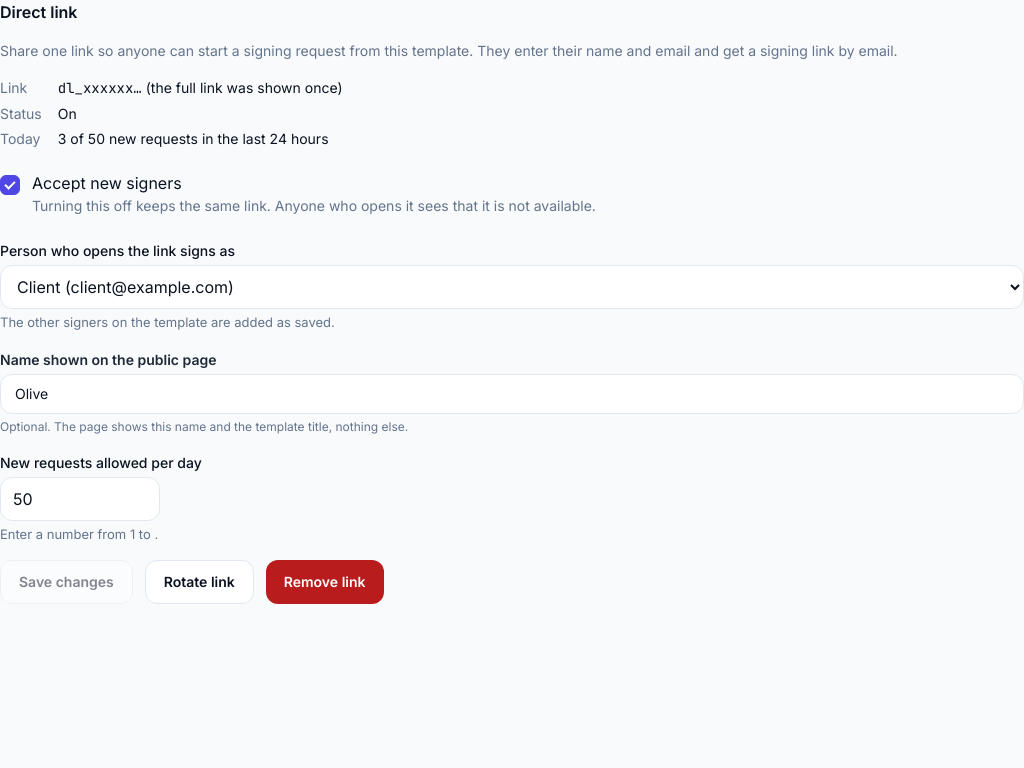
it: DirectLinkPanel › rotates only after confirming, then shows the new URL once
This screenshot has width=1024, height=768.
Click the button "Rotate link": (199, 582) [145, 560, 254, 604]
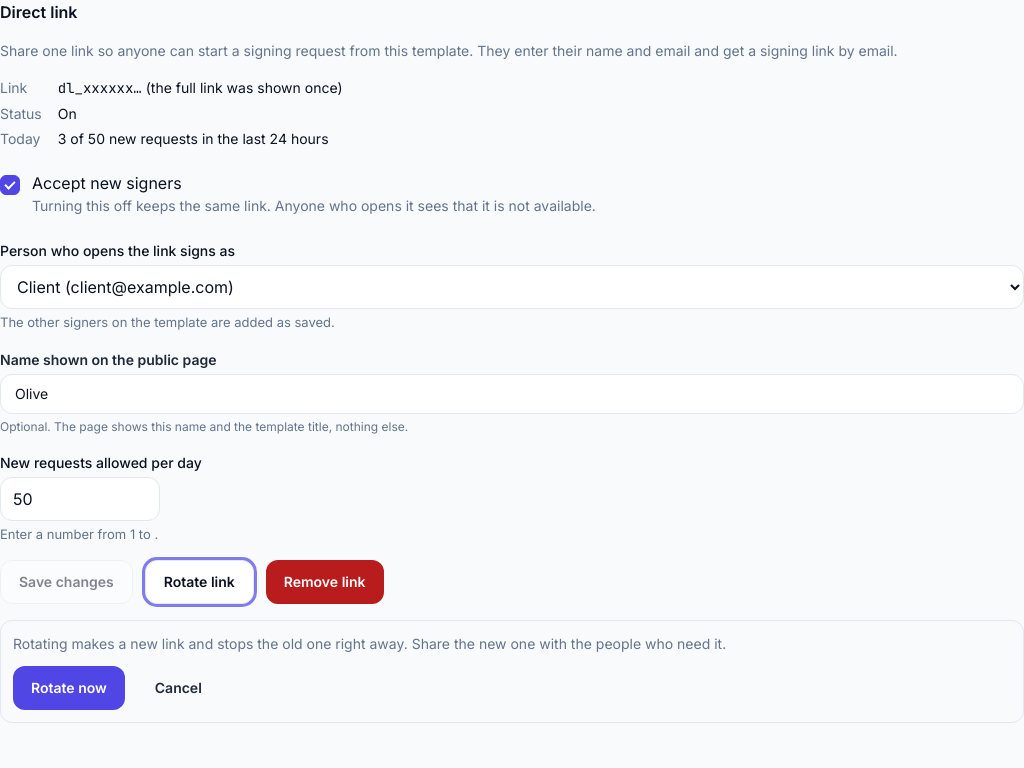
Result: the text "stops the old one right away" is shown at [13, 635, 726, 652]
Click the button "Rotate now": (69, 688) [13, 666, 125, 710]
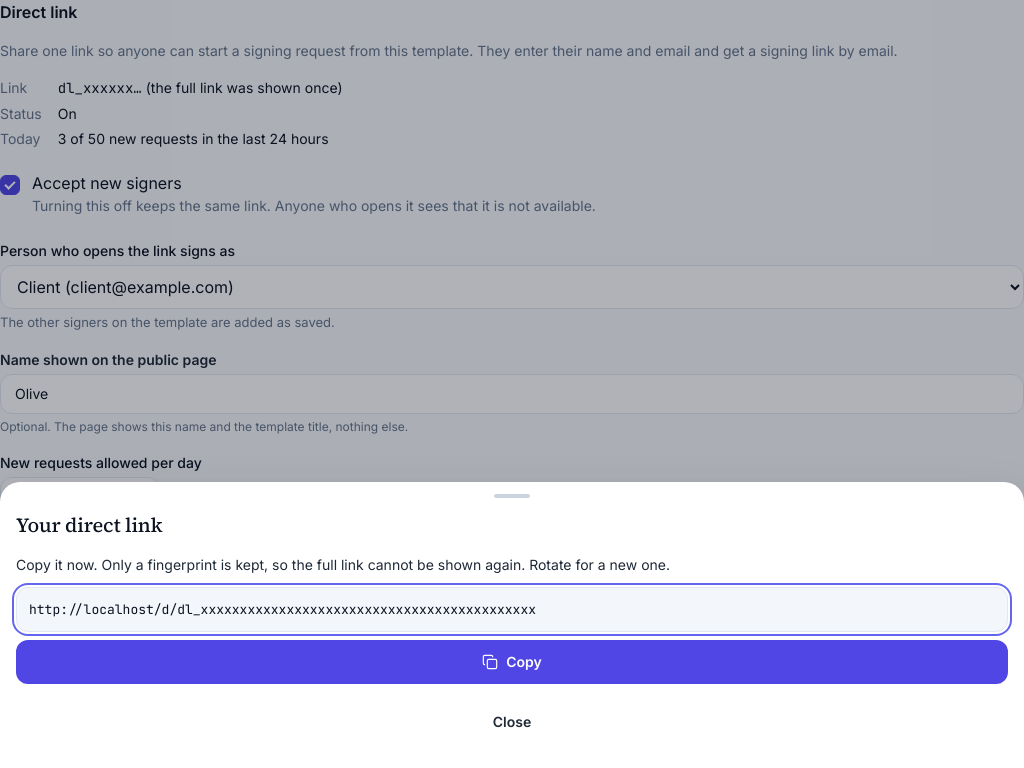
Result: the dialog "Your direct link" is shown
